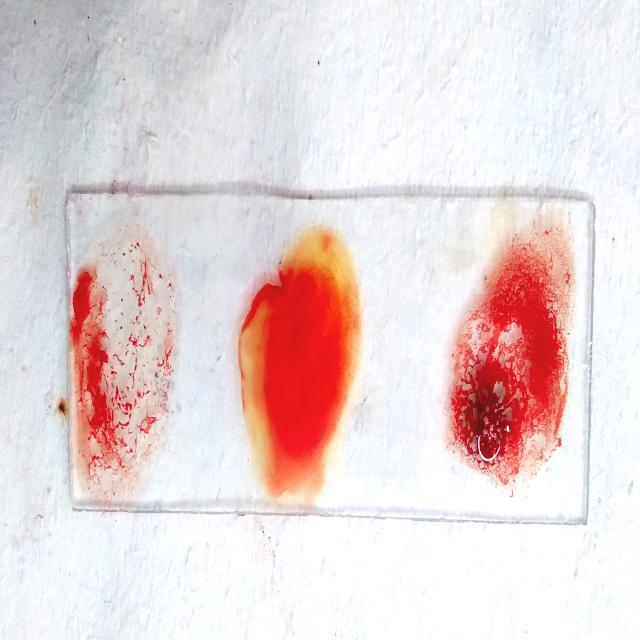A: (453, 232, 568, 488)
D: (72, 248, 168, 488)
